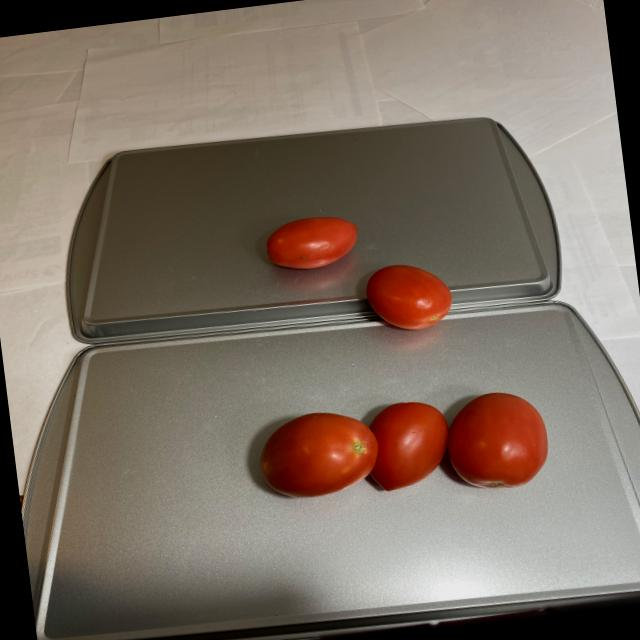tomato: (230, 381, 560, 520), (264, 202, 456, 347)
